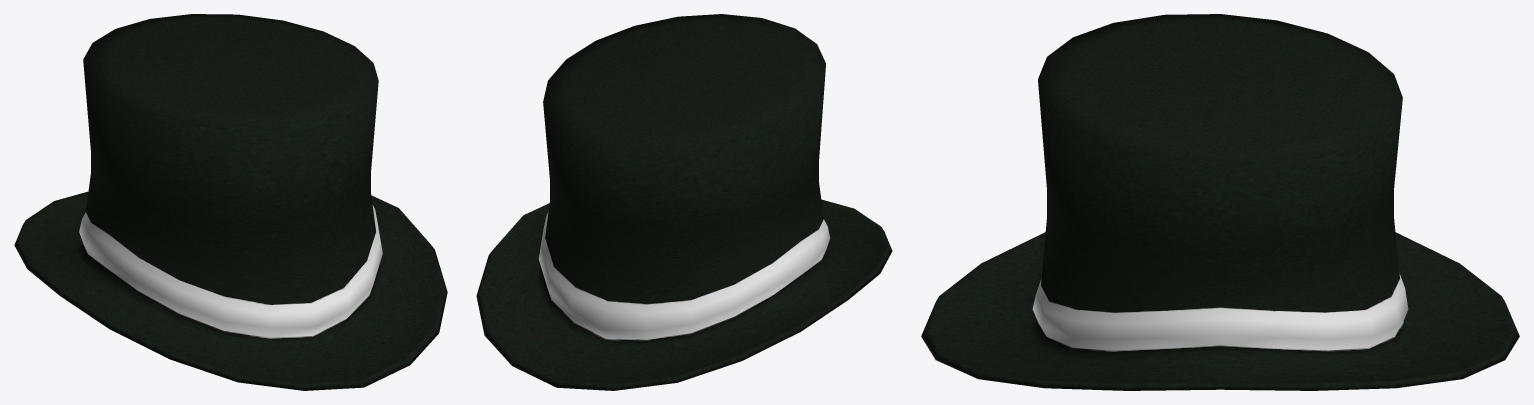
File: hat5.glb
3 views of the same model, side by side, from view 1: azimuth 30°, elevation 25°; view 2: azimuth 150°, elevation 25°; view 3: azimuth 270°, elevation 25° (orthographic). The views are drawn at different scales.
Visible parts, largest first — view 1: pCylinder1; view 2: pCylinder1; view 3: pCylinder1.
Part boxes in pixels (x1,y1,x2,y2): pCylinder1: [14, 14, 447, 390]; pCylinder1: [476, 14, 892, 390]; pCylinder1: [921, 14, 1519, 390].
Bounding box in the file's own units: 15.45 × 10.06 × 20.79.
1 material, 1 textured.
